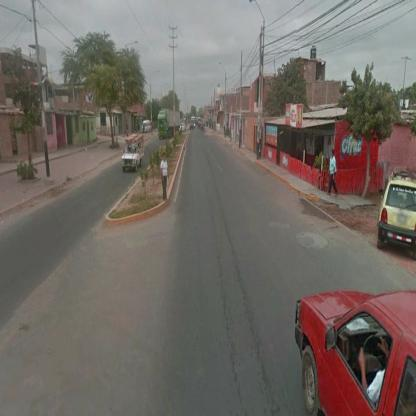Peaton: (328, 149, 338, 196), (160, 155, 170, 200)
Pista: (159, 128, 416, 411), (1, 140, 169, 327)
Vehiculo: (295, 292, 414, 415), (379, 178, 416, 263), (124, 133, 145, 174), (159, 107, 182, 138), (142, 121, 151, 132)
